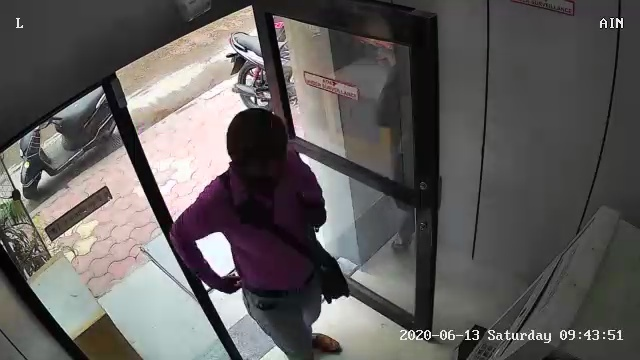open: (99, 3, 443, 350)
